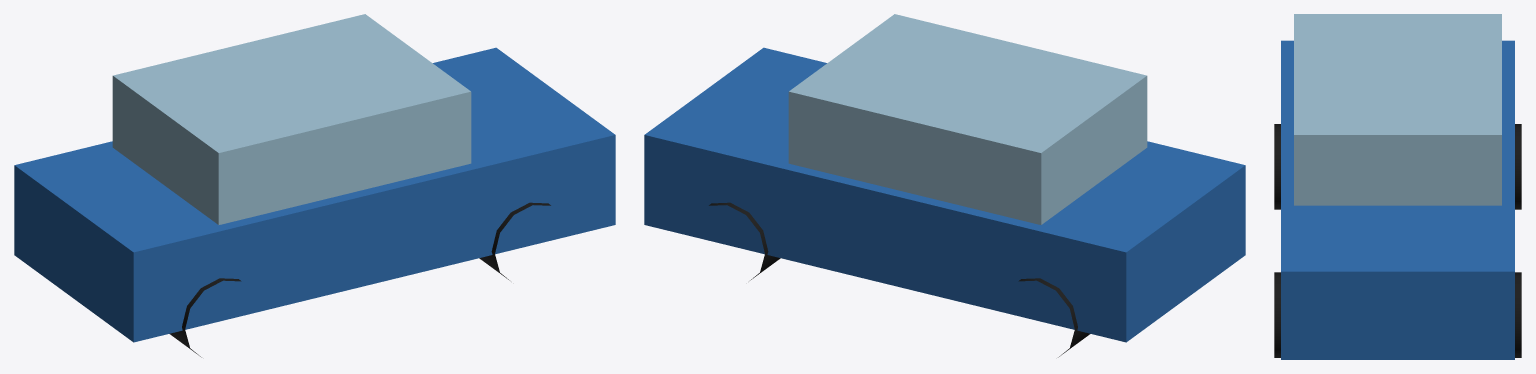
The model's file is car.glb.
3 renders of one model, left to right at view 1: azimuth 30°, elevation 25°; view 2: azimuth 150°, elevation 25°; view 3: azimuth 270°, elevation 25°, orthographic.
Size of the model in its own units: 4.2 by 1.65 by 1.9.
